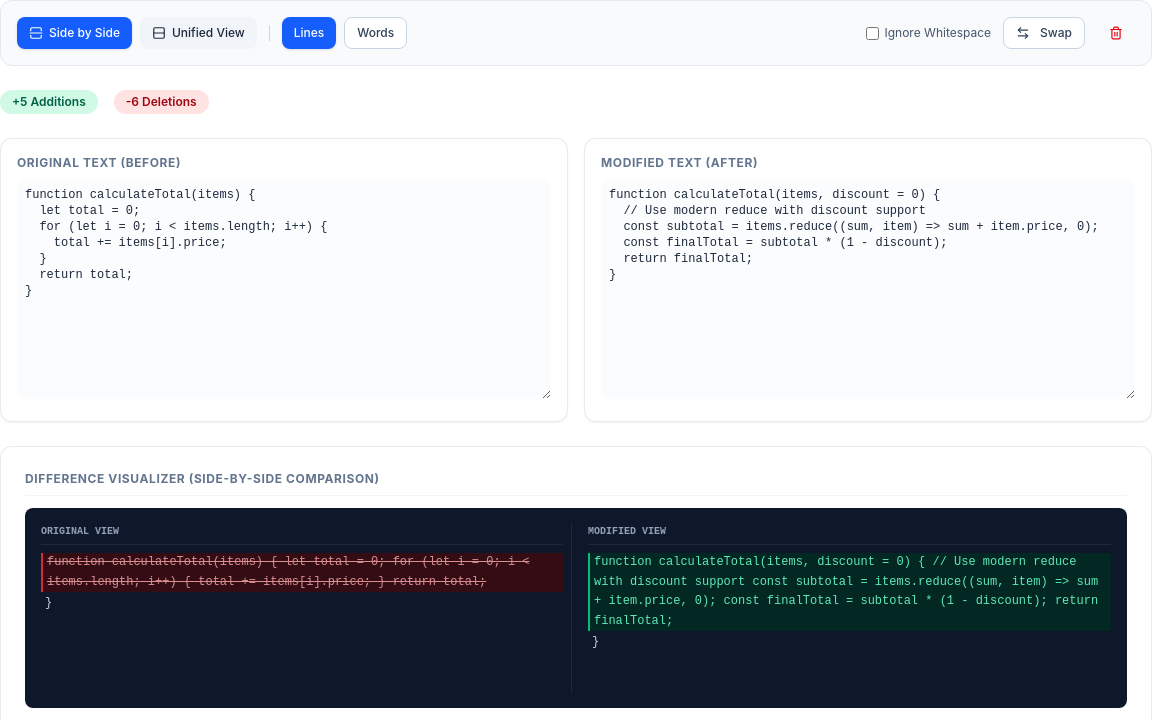
Test: TEXT & DEVELOPER TOOLS (8/8) › Text Diff Checker › edge/boundary: reports 0 additions and 0 deletions on identical inputs
Replace the text in the text box named "Original text input" with "Identical Passage" at (284, 289), box [17,179,551,399]
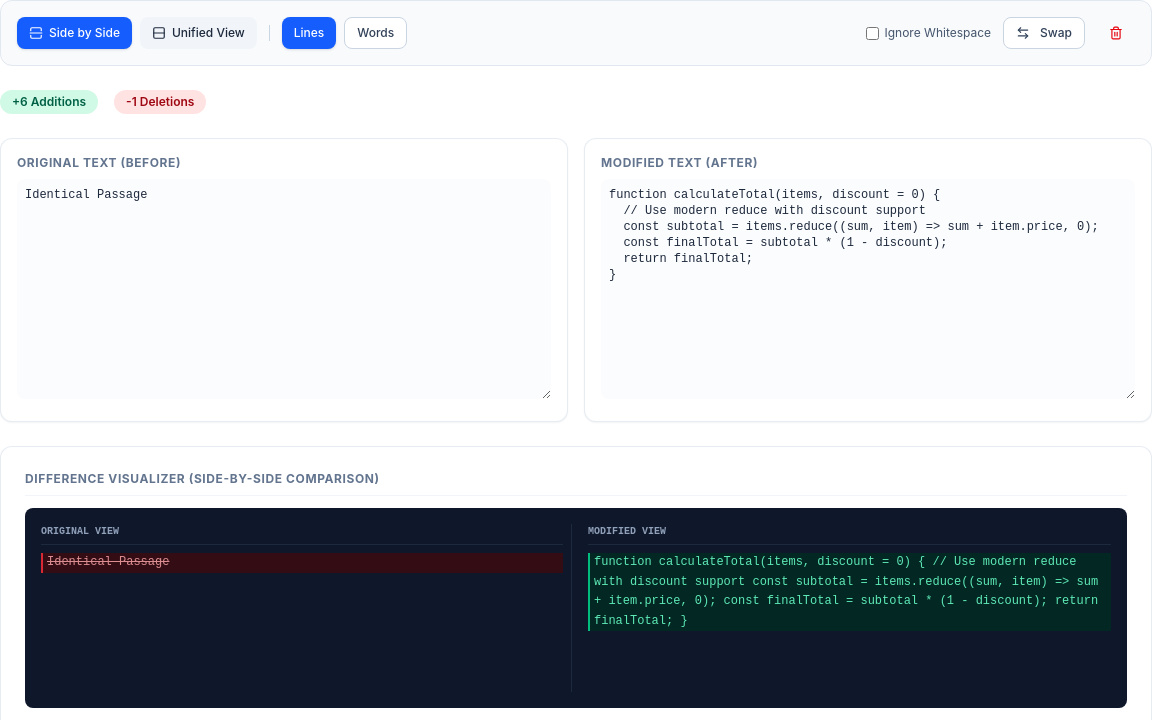
Replace the text in the text box named "Modified text input" with "Identical Passage" at (868, 289), box [601,179,1135,399]
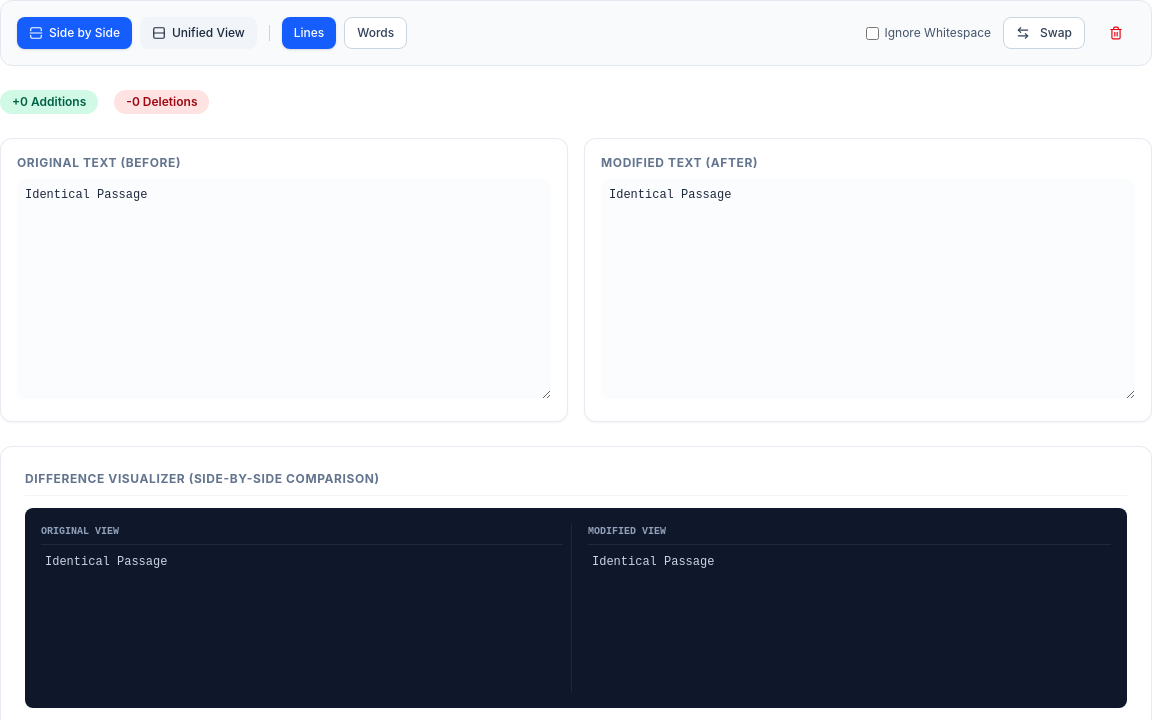
Expected: the text "+0 Additions" is shown, [0,90,98,114]
Expected: the text "-0 Deletions" is shown, [114,90,210,114]
